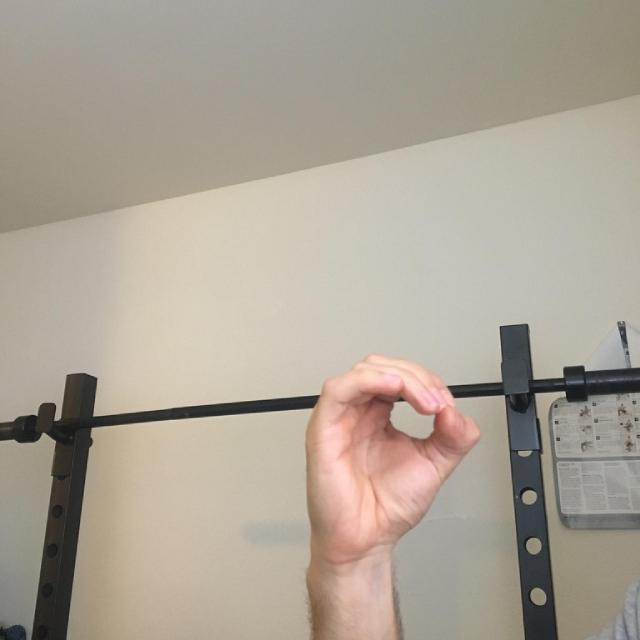O: (210, 282, 532, 600)
